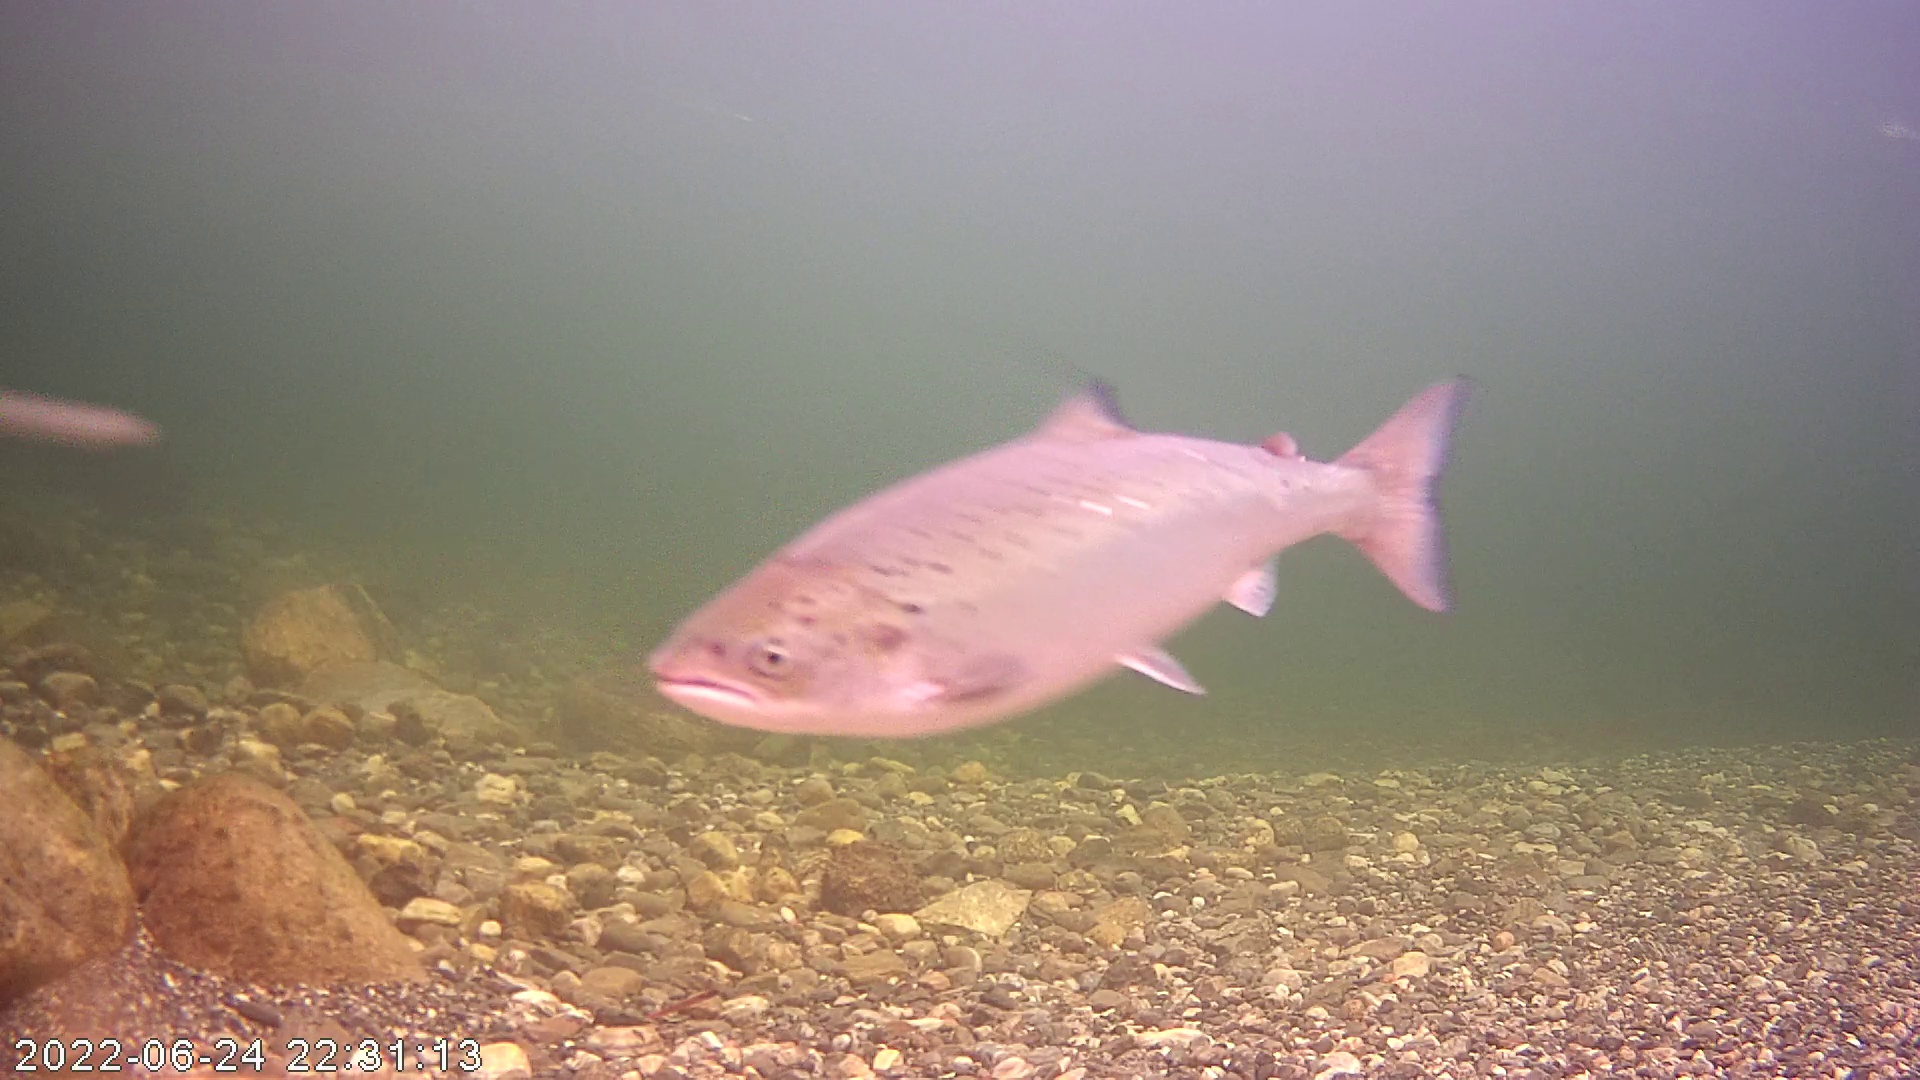salmon: (644, 371, 1476, 741)
